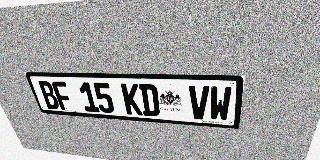1: (77, 82, 100, 112)
5: (93, 82, 115, 113)
B: (37, 81, 61, 110)
D: (139, 84, 160, 117)
F: (51, 81, 75, 110)
K: (121, 83, 143, 115)
V: (189, 85, 209, 120)
W: (209, 86, 232, 121)
